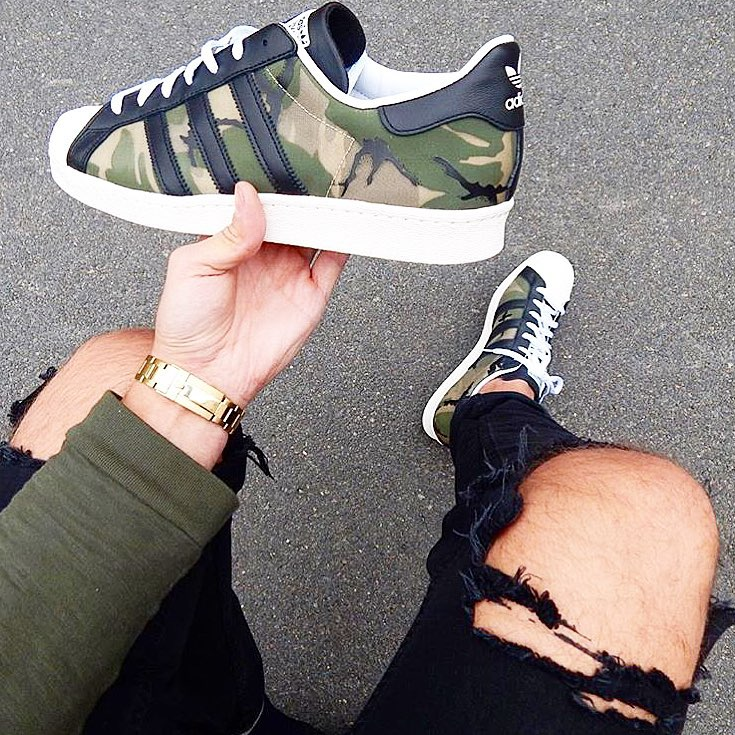sneaker: (413, 247, 602, 456)
